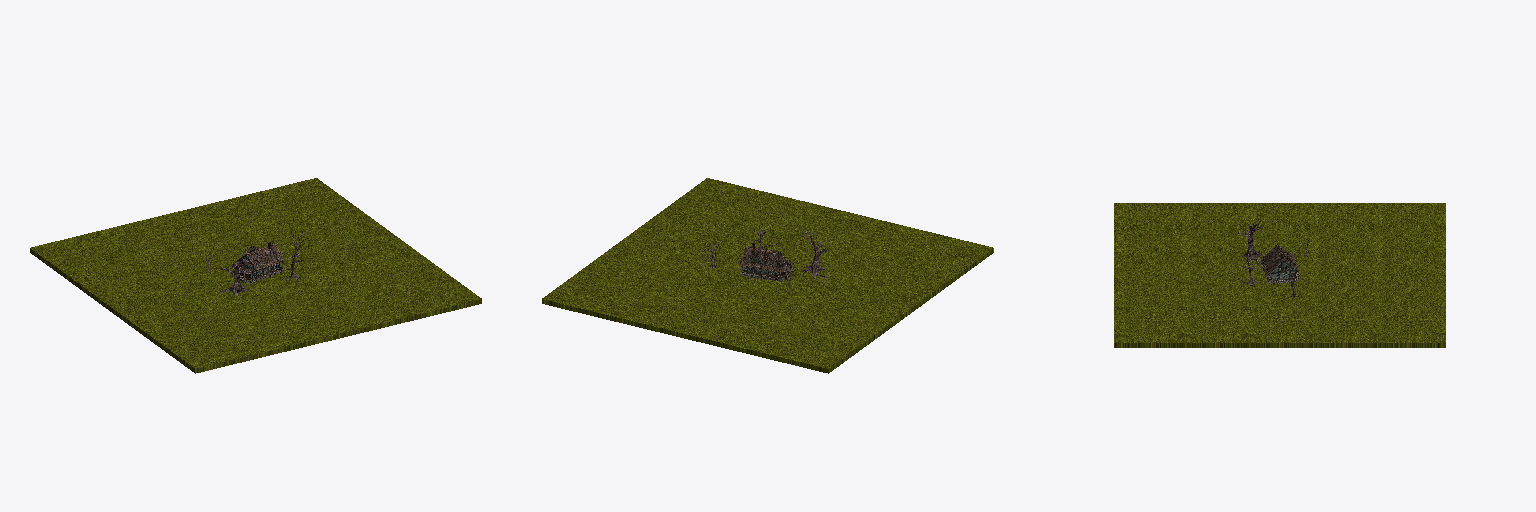
3 views of the same model, side by side, from view 1: azimuth 30°, elevation 25°; view 2: azimuth 150°, elevation 25°; view 3: azimuth 270°, elevation 25° (orthographic).
Parts seen in each view (by area): view 1: Box01, Object048_Térháló.020_Materi; view 2: Box01, Object048_Térháló.020_Materi; view 3: Box01, Object048_Térháló.020_Materi.
Boxes of the visible parts, x1,y1,x2,y2 form: Box01: [30, 178, 481, 373]; Object048_Térháló.020_Materi: [237, 244, 284, 277]; Box01: [542, 178, 993, 373]; Object048_Térháló.020_Materi: [740, 246, 781, 276]; Box01: [1114, 203, 1445, 347]; Object048_Térháló.020_Materi: [1263, 244, 1299, 280].
Bounding box in the file's own units: 77.95 × 11.53 × 77.95.
21 materials, 9 textured.